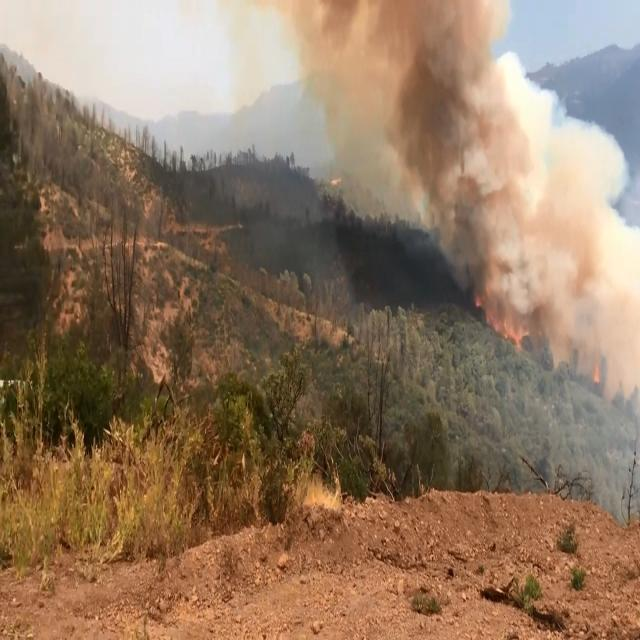Fire: (466, 272, 586, 368)
